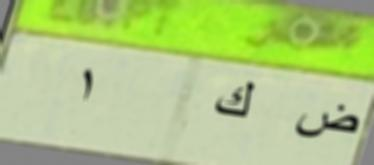1: (74, 56, 101, 104)
daad: (294, 98, 359, 144)
kaaf: (213, 74, 255, 124)
